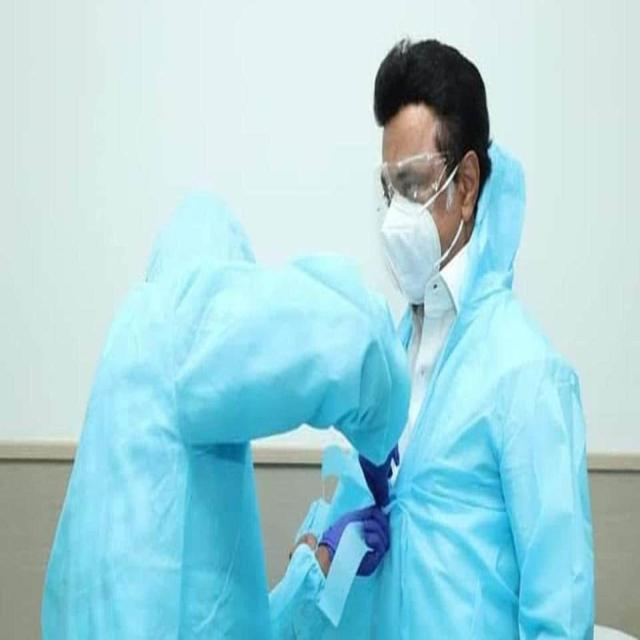Coverall: (320, 22, 602, 637), (23, 105, 315, 639)
Gloves: (308, 503, 399, 579), (352, 426, 412, 505)
Goggles: (360, 147, 467, 218)
Mask: (377, 187, 444, 309)
